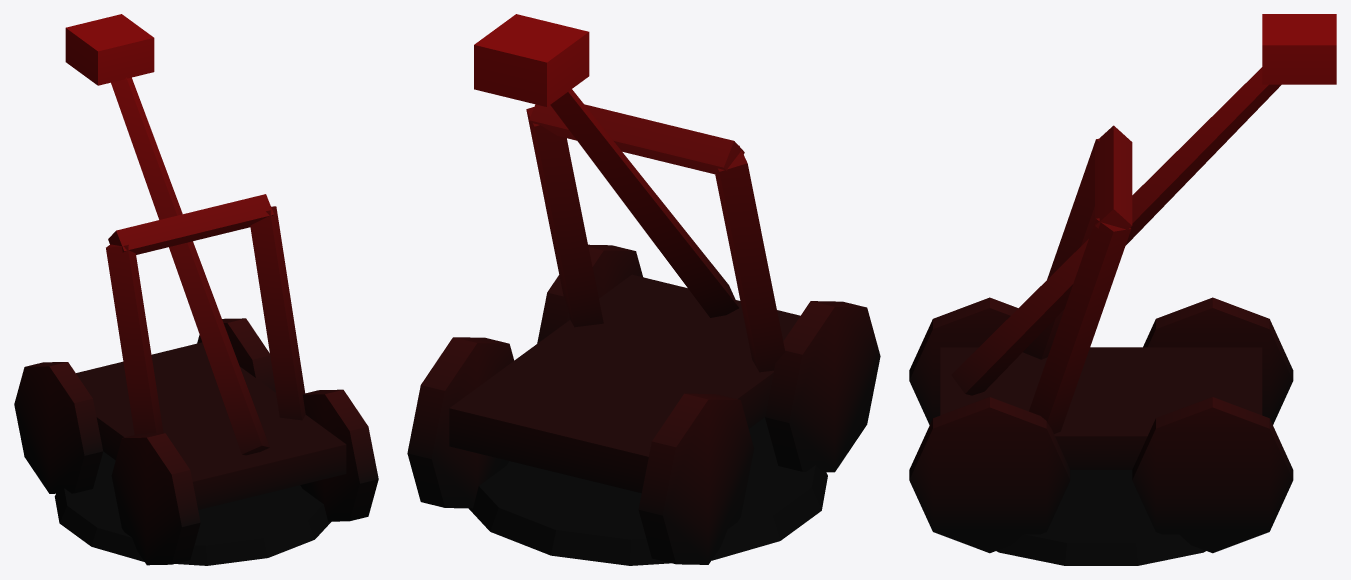
Rendered from ns-block-catapult.glb.
3 renders of one model, left to right at view 1: azimuth 30°, elevation 25°; view 2: azimuth 150°, elevation 25°; view 3: azimuth 270°, elevation 25°, orthographic. The views are drawn at different scales.
Visible parts, largest first — view 1: Cube, Ringed form, Tapered form.007, Tapered form, Tapered form.001, Tapered form.005, Tapered form.003, Tapered form.002, Cube.001, Tapered form.006, Tapered form.004; view 2: Cube, Ringed form, Tapered form.001, Tapered form, Tapered form.004, Tapered form.007, Cube.001, Tapered form.002, Tapered form.005, Tapered form.006, Tapered form.003; view 3: Cube, Tapered form.004, Tapered form.003, Tapered form.007, Ringed form, Tapered form.005, Tapered form.001, Cube.001, Tapered form, Tapered form.006, Tapered form.002.
Part boxes in pixels (bbox=[...]): Cube: bbox=[76, 342, 346, 509]; Ringed form: bbox=[54, 451, 331, 565]; Tapered form.007: bbox=[111, 77, 269, 455]; Tapered form: bbox=[111, 433, 200, 565]; Tapered form.001: bbox=[14, 362, 103, 493]; Tapered form.005: bbox=[250, 206, 305, 420]; Tapered form.003: bbox=[300, 389, 378, 521]; Tapered form.002: bbox=[106, 244, 163, 434]; Cube.001: bbox=[65, 14, 154, 85]; Tapered form.006: bbox=[108, 194, 273, 254]; Tapered form.004: bbox=[197, 318, 275, 392]; Cube: bbox=[449, 274, 800, 493]; Ringed form: bbox=[468, 417, 827, 565]; Tapered form.001: bbox=[638, 393, 753, 564]; Tapered form: bbox=[765, 301, 880, 472]; Tapered form.004: bbox=[407, 337, 514, 508]; Tapered form.007: bbox=[550, 89, 739, 317]; Cube.001: bbox=[474, 14, 589, 106]; Tapered form.002: bbox=[715, 145, 785, 372]; Tapered form.005: bbox=[526, 107, 603, 327]; Tapered form.006: bbox=[529, 104, 744, 174]; Tapered form.003: bbox=[537, 244, 642, 343]; Cube: bbox=[940, 347, 1262, 469]; Tapered form.004: bbox=[1132, 397, 1293, 553]; Tapered form.003: bbox=[909, 397, 1070, 553]; Tapered form.007: bbox=[951, 67, 1281, 395]; Ringed form: bbox=[996, 470, 1205, 565]; Tapered form.005: bbox=[1029, 218, 1131, 433]; Tapered form.001: bbox=[1143, 297, 1293, 424]; Cube.001: bbox=[1262, 14, 1336, 84]; Tapered form: bbox=[909, 297, 1018, 424]; Tapered form.006: bbox=[1095, 125, 1132, 230]; Tapered form.002: bbox=[1023, 138, 1099, 359].
Bounding box in the file's own units: 0.5167 × 0.835 × 0.69.
